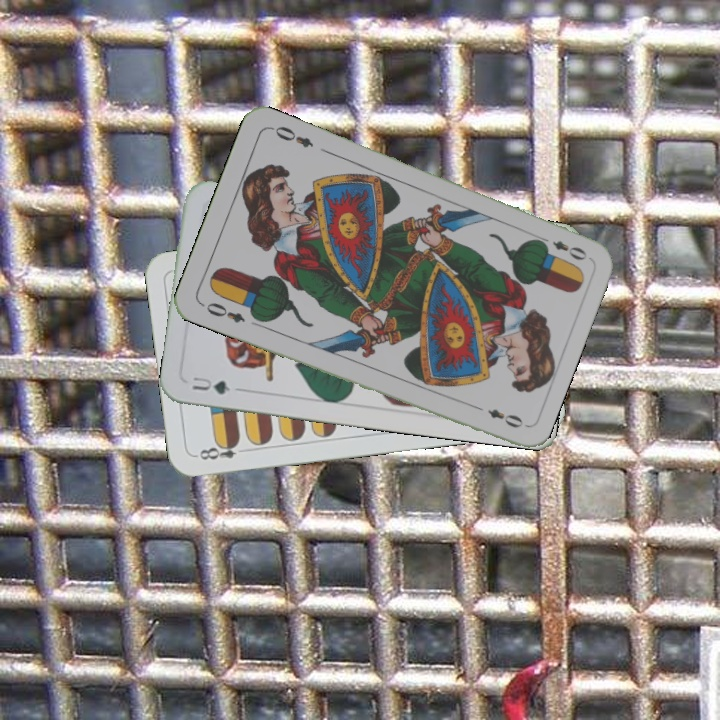E8: (192, 437, 242, 463)
EO: (534, 232, 590, 263), (202, 298, 248, 326)
GU: (188, 371, 233, 397)
